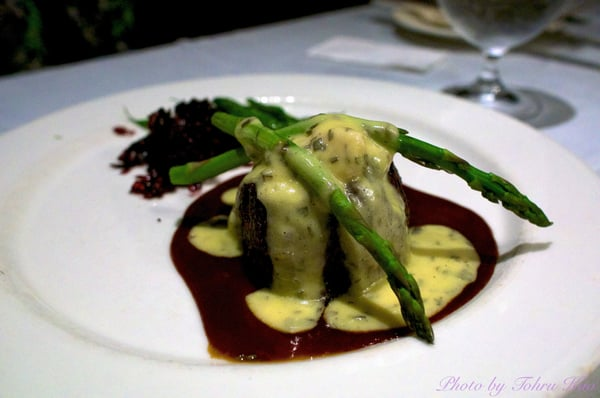curry: (9, 1, 597, 391)
sandwich: (438, 2, 576, 129)
